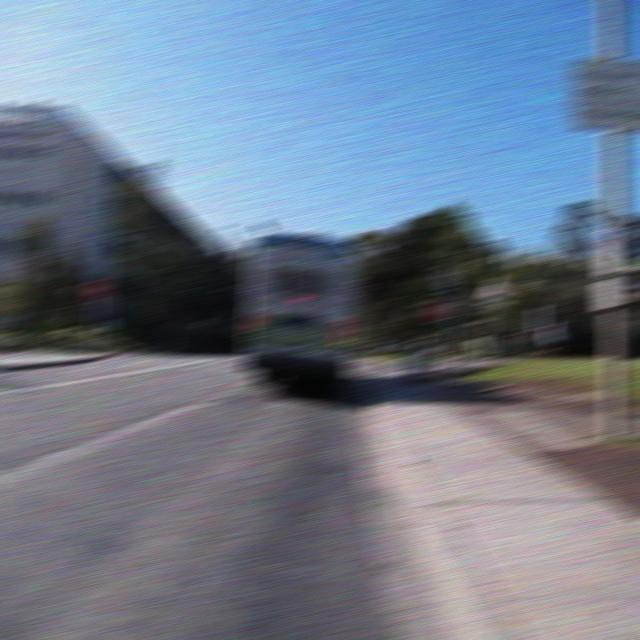stop: (421, 297, 449, 322), (83, 276, 109, 301)
